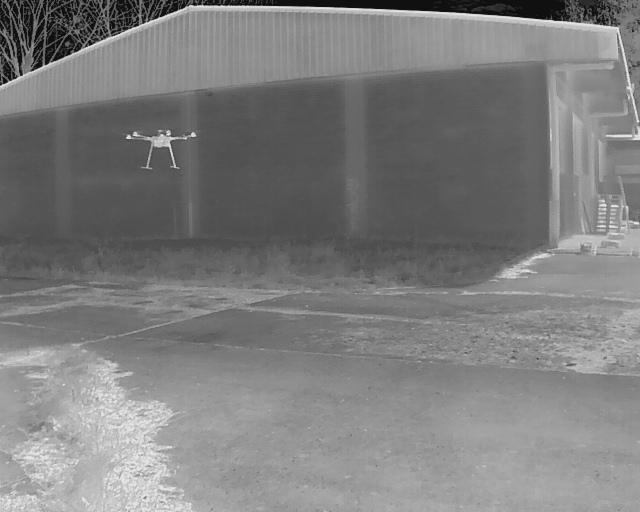drone: (117, 120, 204, 177)
